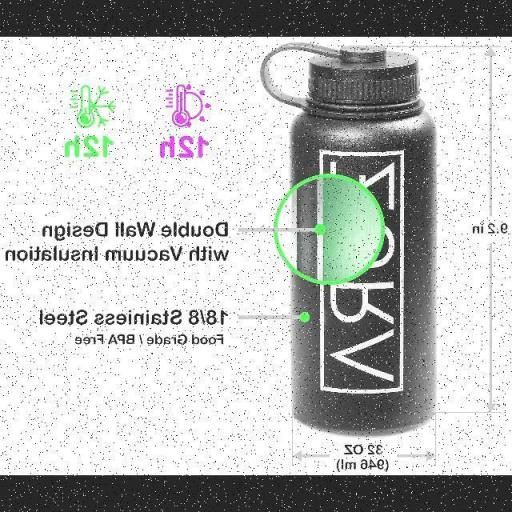bottle: (280, 31, 450, 443)
